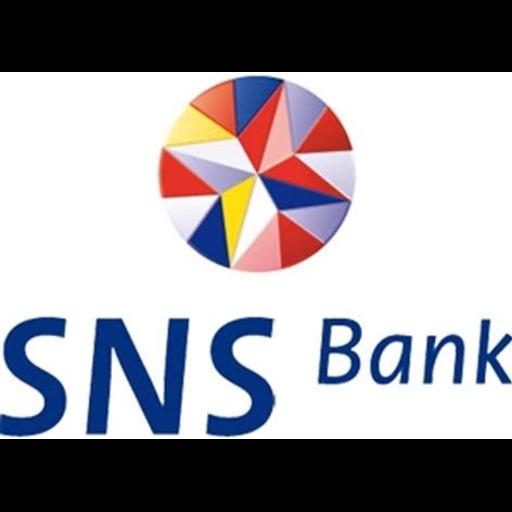SNS Bank N-V: (0, 72, 512, 439)
